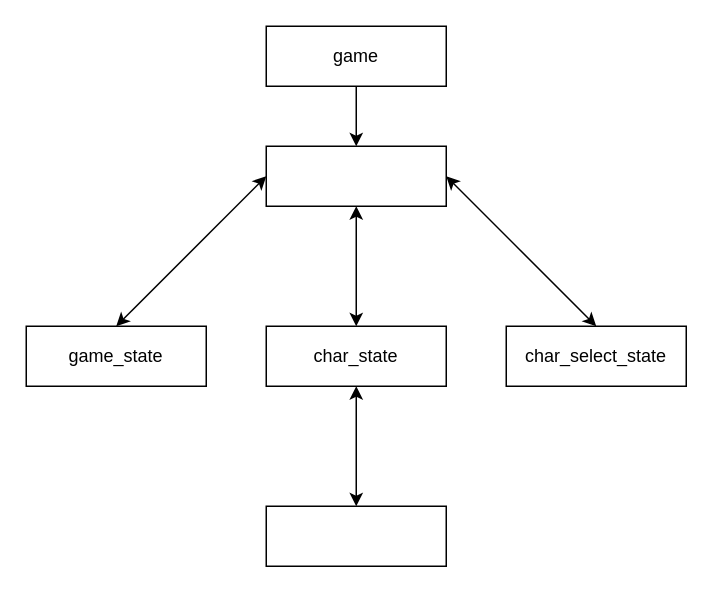
The diagram is 713 pixels wide and 593 high, and some of its shapes have lost their labels. The centre of each missing label's shape, as x and y in pixels:
char_view_state: [355,535]
menu_state: [355,175]
